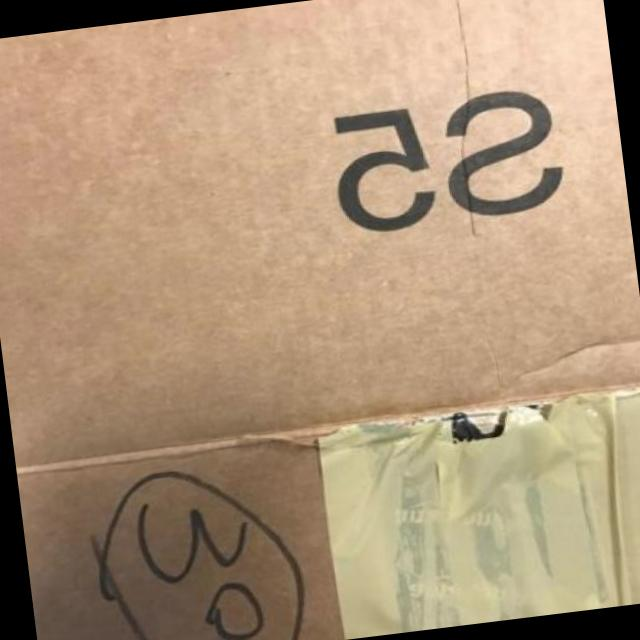cardboard paper: (16, 390, 640, 640), (443, 88, 561, 216), (331, 105, 433, 231)
